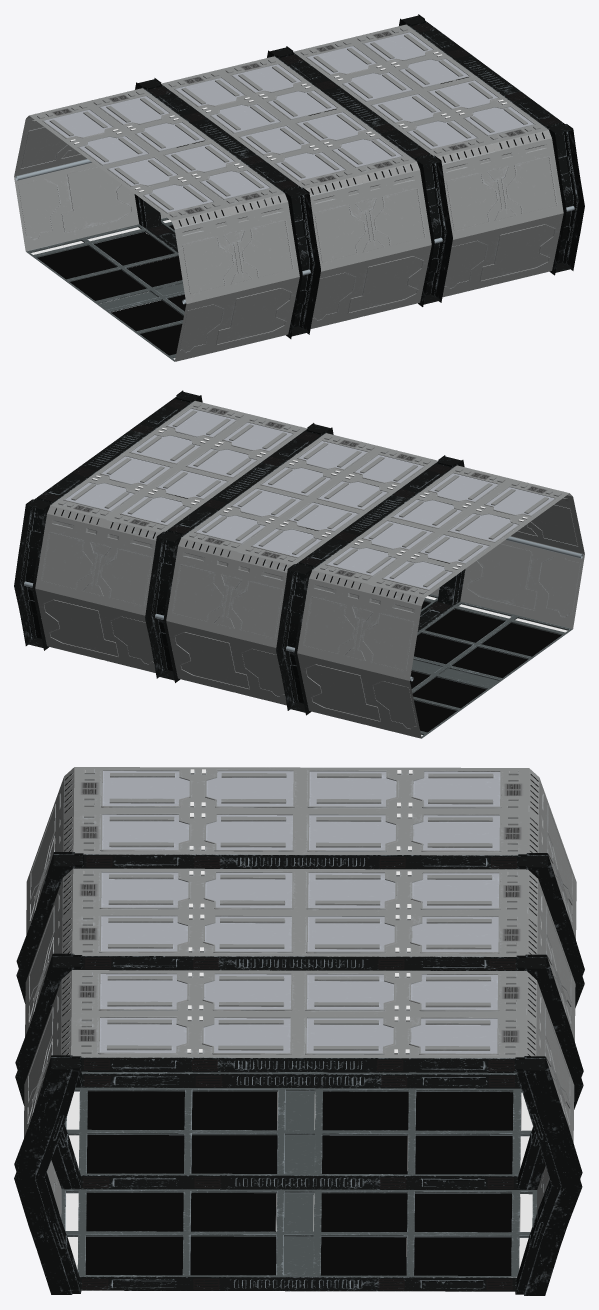
Rendered from scene-old.glb.
3 renders of one model, top to bottom at view 1: azimuth 30°, elevation 25°; view 2: azimuth 150°, elevation 25°; view 3: azimuth 270°, elevation 25°, orthographic. The views are drawn at different scales.
Visible parts, largest first — view 1: Object_5, Object_4, Object_3, Object_6, Object_2; view 2: Object_5, Object_4, Object_3, Object_6, Object_2; view 3: Object_2, Object_6, Object_4, Object_3, Object_5.
Part boxes in pixels (bbox=[...]): Object_5: bbox=[14, 88, 299, 361]; Object_4: bbox=[21, 24, 563, 352]; Object_3: bbox=[160, 28, 556, 328]; Object_6: bbox=[15, 14, 584, 338]; Object_2: bbox=[26, 217, 545, 361]; Object_5: bbox=[297, 465, 584, 738]; Object_4: bbox=[35, 401, 580, 728]; Object_3: bbox=[44, 405, 439, 705]; Object_6: bbox=[14, 390, 583, 715]; Object_2: bbox=[53, 594, 572, 738]; Object_2: bbox=[61, 1071, 536, 1277]; Object_6: bbox=[14, 852, 584, 1295]; Object_4: bbox=[24, 769, 574, 1217]; Object_3: bbox=[25, 868, 575, 1188]; Object_5: bbox=[26, 767, 576, 939].
Bounding box in the file's own units: 11.89 × 4.09 × 9.39.
3 materials, 3 textured.
